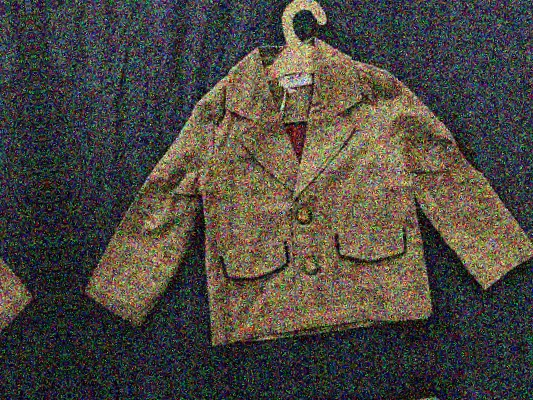Blazer: (87, 0, 533, 365), (127, 372, 533, 400), (0, 53, 11, 400)
